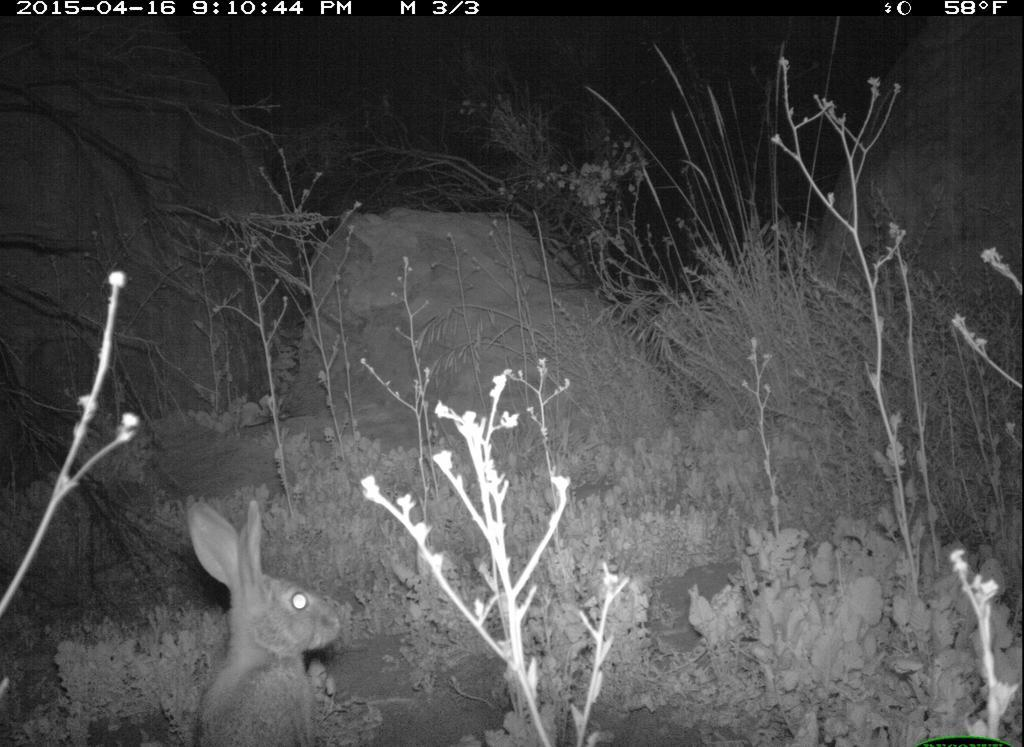rabbit: (185, 489, 346, 747)
